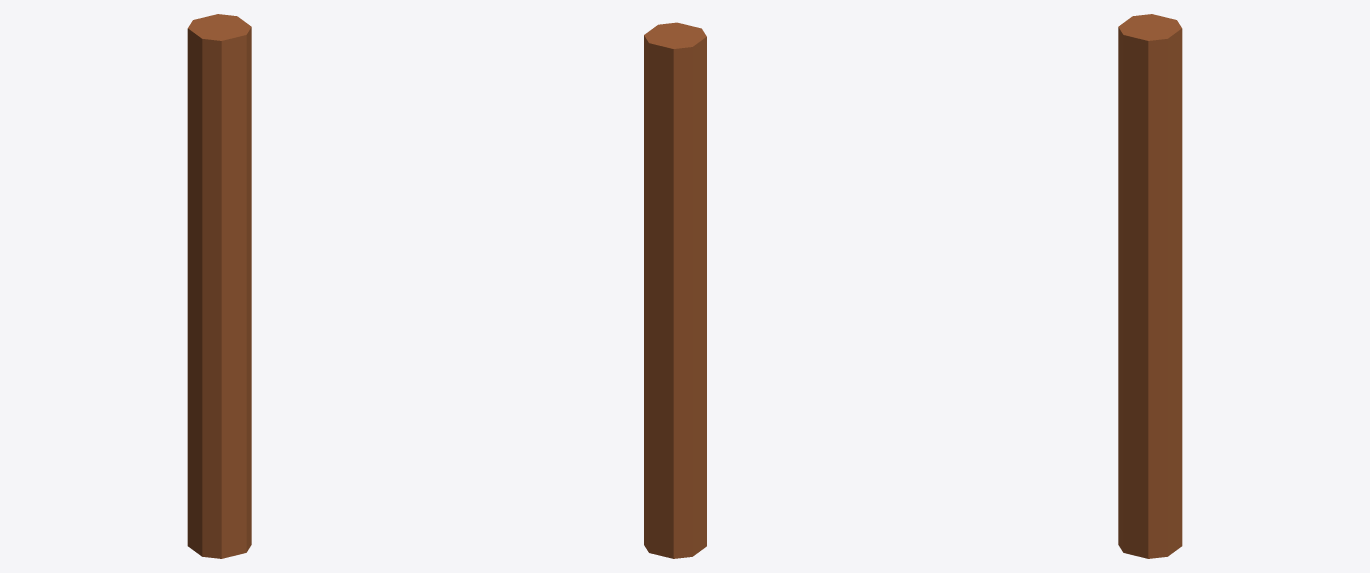
Rendered from signboard.fbx.
3 views of the same model, side by side, from view 1: azimuth 30°, elevation 25°; view 2: azimuth 150°, elevation 25°; view 3: azimuth 330°, elevation 25° (orthographic).
Parts seen in each view (by area): view 1: stick; view 2: stick; view 3: stick.
Part boxes in pixels (x1,y1,x2,y2): stick: (187,14,251,558); stick: (644,22,706,558); stick: (1118,14,1182,558).
Size of the model in its own units: 250 by 300 by 34.68.
